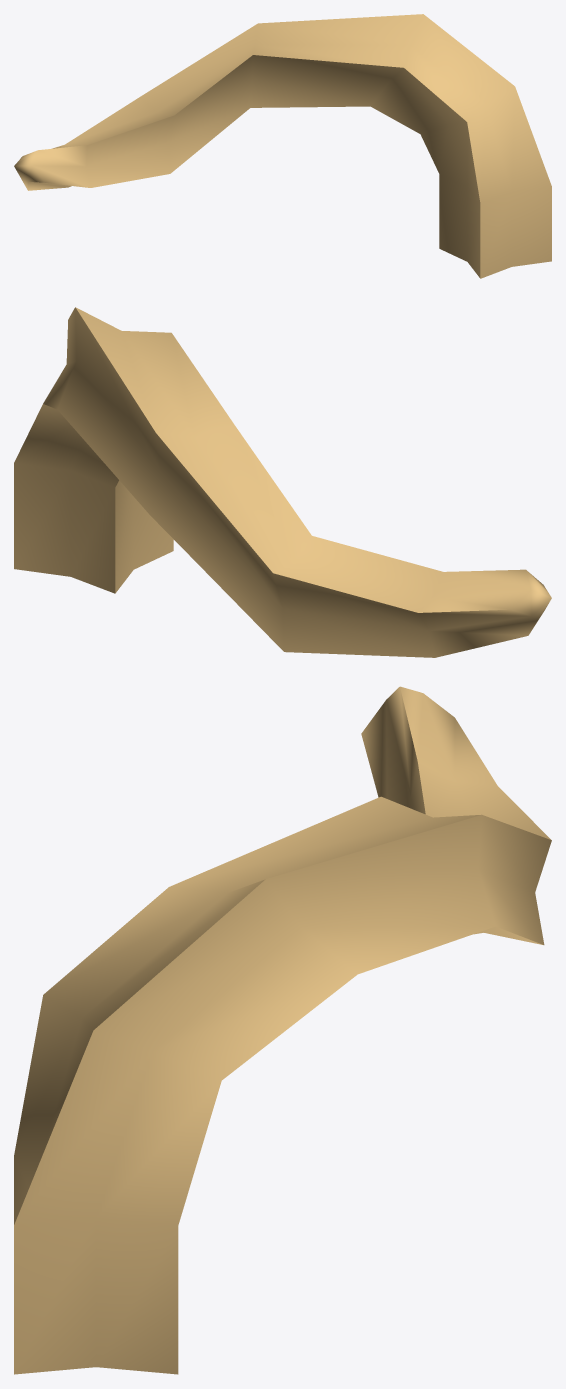
File: starPlant_stage1.fbx
The picture shows the model from 3 angles, top to bottom: view 1: azimuth 30°, elevation 25°; view 2: azimuth 150°, elevation 25°; view 3: azimuth 270°, elevation 25°; orthographic projection. The views are drawn at different scales.
Parts seen in each view (by area): view 1: sprout_starPlant; view 2: sprout_starPlant; view 3: sprout_starPlant.
Part boxes in pixels (x1=…): sprout_starPlant: x1=14, y1=14, x2=551, y2=278; sprout_starPlant: x1=14, y1=307, x2=551, y2=657; sprout_starPlant: x1=14, y1=686, x2=551, y2=1374.
Size of the model in its own units: 37.48 by 17.73 by 20.02.
